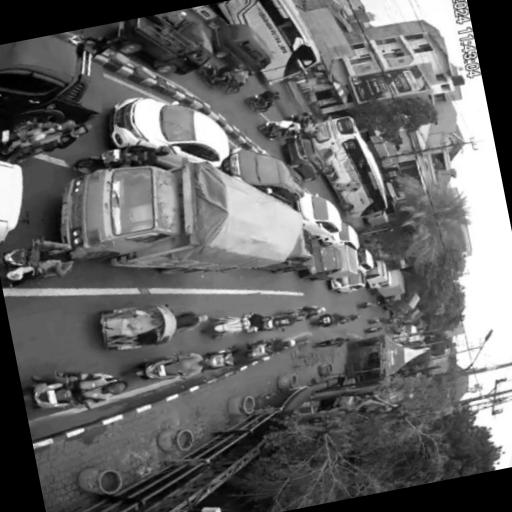bus: (216, 0, 319, 84), (313, 117, 386, 217)
car: (0, 35, 102, 125), (110, 98, 228, 166), (118, 11, 212, 75), (221, 148, 303, 204), (211, 24, 270, 72), (260, 230, 313, 273), (296, 193, 340, 239), (0, 161, 22, 244), (284, 138, 324, 181), (320, 223, 359, 250), (329, 272, 364, 293), (357, 248, 373, 273)
motorcycle: (0, 241, 39, 281), (23, 383, 80, 408), (73, 148, 128, 173), (197, 65, 243, 94), (201, 315, 256, 338), (131, 357, 180, 380), (203, 349, 233, 370), (0, 126, 25, 151), (197, 65, 222, 88), (257, 316, 289, 332), (257, 122, 284, 140), (246, 340, 271, 358), (245, 95, 269, 113), (275, 309, 307, 320), (257, 317, 280, 332), (223, 81, 243, 94), (310, 315, 332, 326), (356, 302, 372, 309), (364, 327, 377, 333), (367, 318, 379, 324)
truck: (60, 163, 302, 273), (117, 11, 212, 75), (300, 245, 357, 281), (369, 270, 404, 297), (381, 292, 419, 312), (364, 260, 387, 286)
